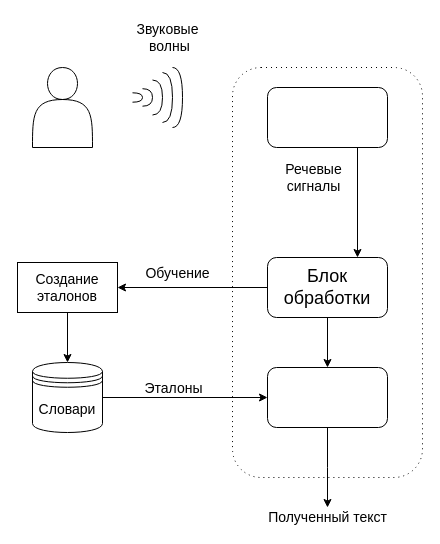
This 440x544 diagram has some shape labels left out. The box of each missing label's shape, as (x1, y1, x2, y2) in pixels:
Блок анализа: (266, 366, 388, 428)
Микрофон: (266, 86, 388, 148)
